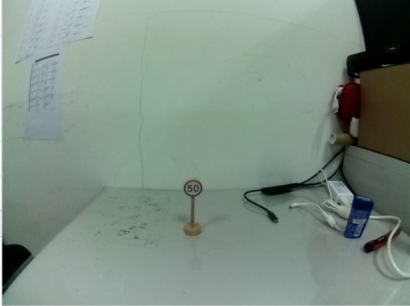Speed50: (181, 177, 203, 200)
